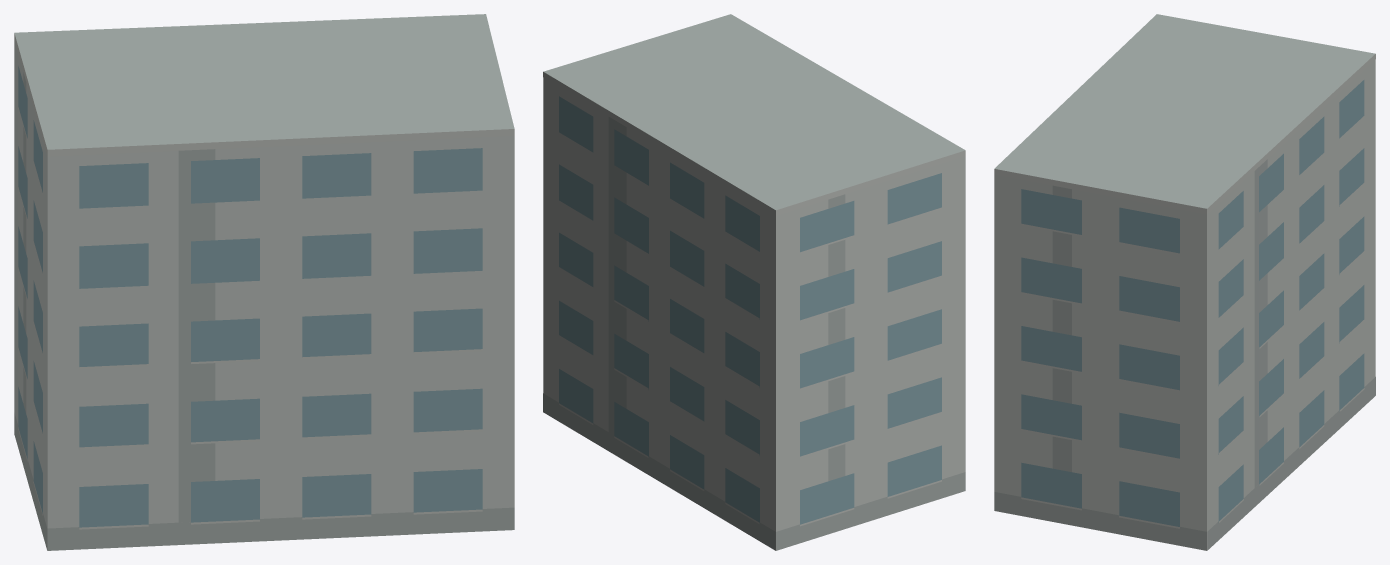
The model's file is survey-upis-32535329.glb.
The picture shows the model from 3 angles, left to right: view 1: azimuth 30°, elevation 25°; view 2: azimuth 150°, elevation 25°; view 3: azimuth 270°, elevation 25°; orthographic projection. The views are drawn at different scales.
Visible parts, largest first — view 1: survey-upis-32535329.tmp; view 2: survey-upis-32535329.tmp; view 3: survey-upis-32535329.tmp.
Boxes of the visible parts, x1,y1,x2,y2 form: survey-upis-32535329.tmp: (14,14,514,550); survey-upis-32535329.tmp: (543,14,965,550); survey-upis-32535329.tmp: (994,14,1375,550).
Bounding box in the file's own units: 17.47 × 14.3 × 14.46.
